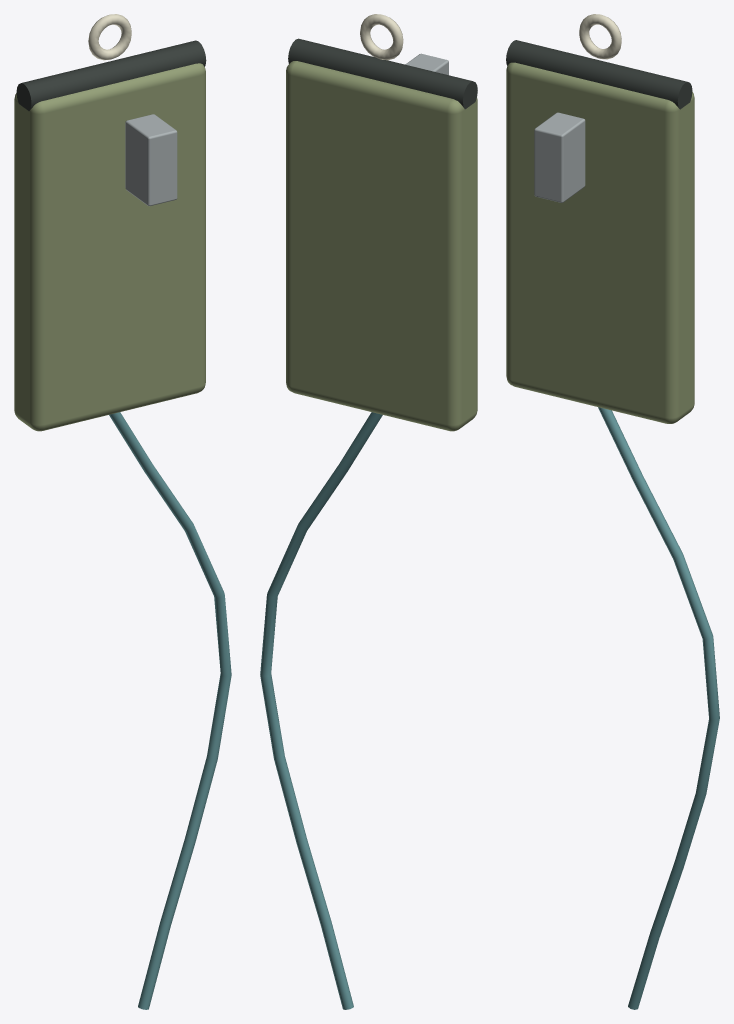
Rendered from field-medicine-and-recovery-iv-bag-60f3234f__3054.glb.
3 views of the same model, side by side, from view 1: azimuth 30°, elevation 25°; view 2: azimuth 150°, elevation 25°; view 3: azimuth 330°, elevation 25° (orthographic).
Parts seen in each view (by area): view 1: iv-bag; view 2: iv-bag; view 3: iv-bag.
Part boxes in pixels (x1,y1,x2,y2): iv-bag: (14, 14, 231, 1009); iv-bag: (260, 14, 477, 1009); iv-bag: (506, 14, 719, 1009).
Bounding box in the file's own units: 0.1252 × 0.5757 × 0.0685.
